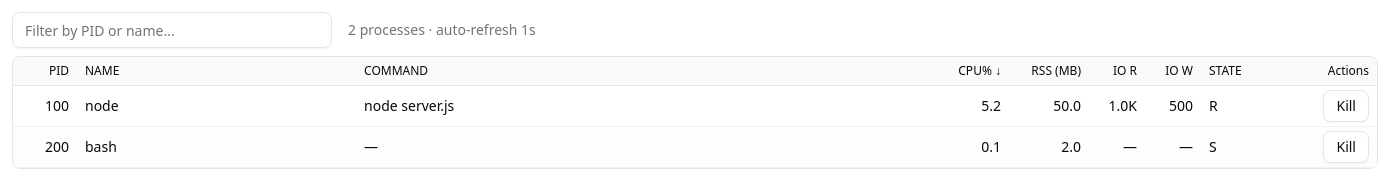
Test: ProcessTable › filters by PID
Expected: the text "node" is shown, [77,86,356,126]
Type "100" into the field with placeholder "Filter by PID or name...".
click(172, 30); type("100")  # box [12,12,332,48]
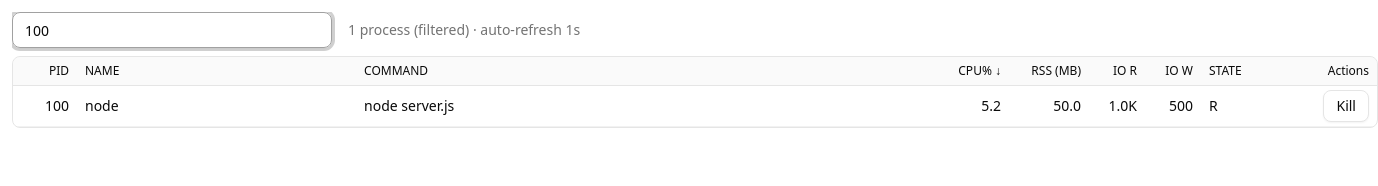
Expected: the text "100" is shown, [13,86,77,126]
Expected: the text "200" is gone
